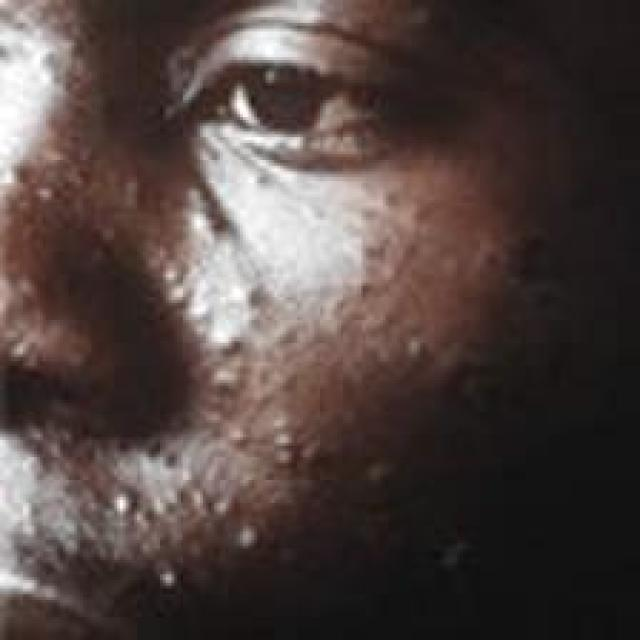others: (28, 8, 548, 608)
